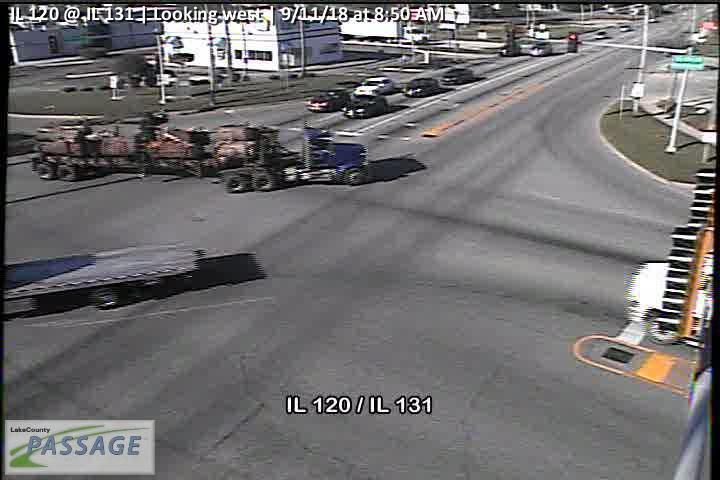SUV: (304, 88, 351, 113), (353, 77, 396, 98)
Sedan: (342, 96, 389, 119), (402, 77, 440, 97), (439, 68, 474, 85)
Truck: (30, 110, 370, 195)
